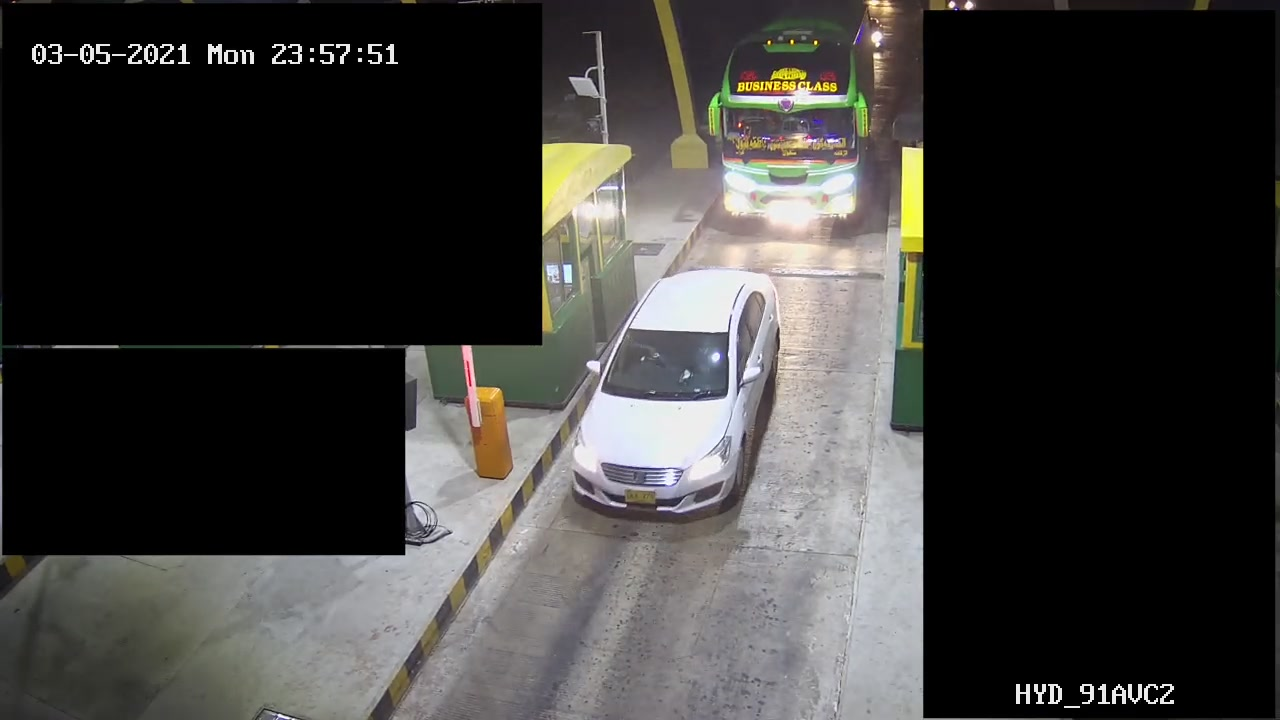F1: (562, 259, 797, 532)
